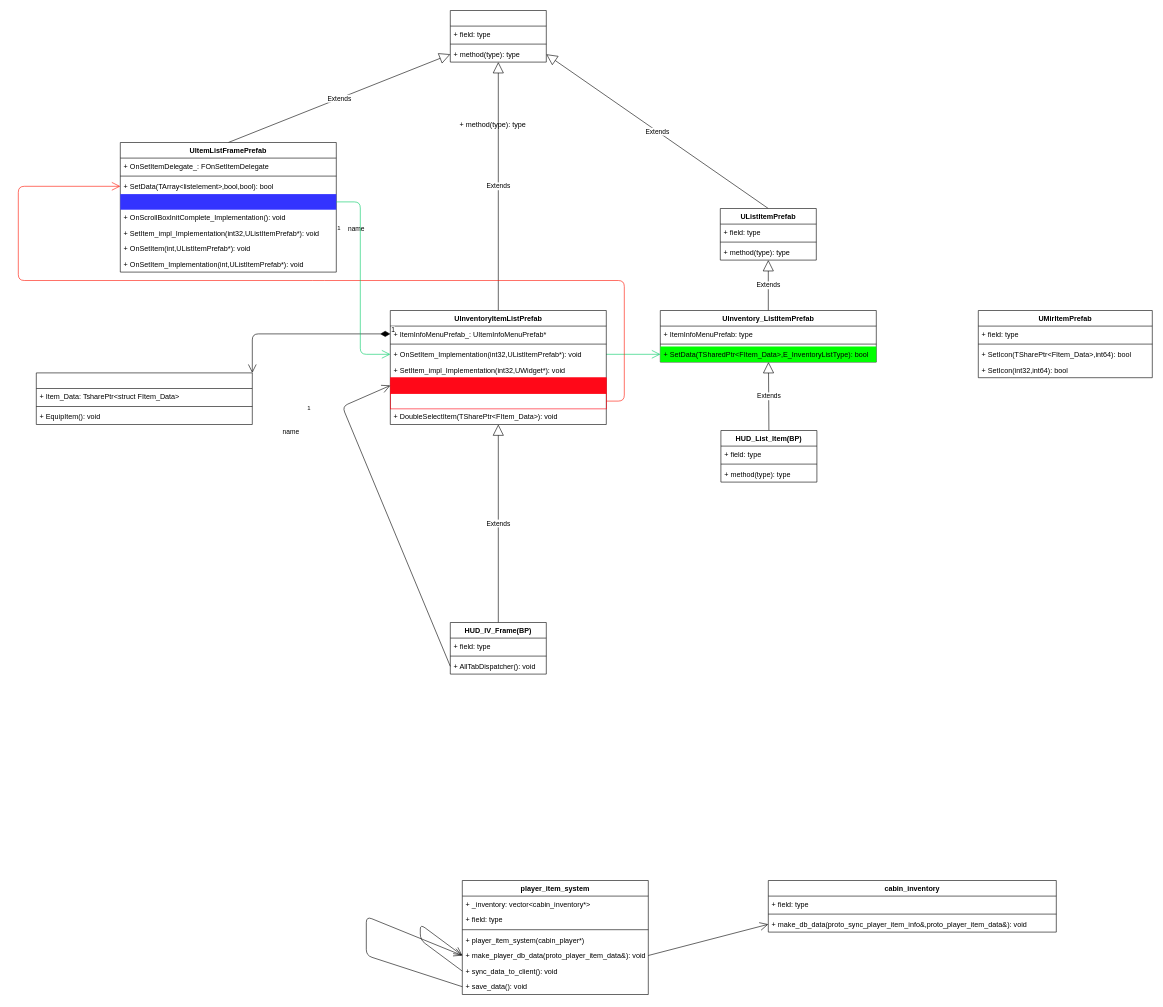
Some shapes in this 1163 by 1007 pixel diagram are drawn without their labels. Here are the shapes that lost their labels. From the top down, the box of each, then its label:
(450, 10, 546, 62): UMirPrefab
(120, 194, 336, 209): + OnSetItem(int32,UListItemPrefab*): void
(36, 372, 252, 424): UItemInfoMenuPrefab
(390, 377, 606, 393): + SetTapCategory(E_InventoryTapType): void
(390, 393, 606, 409): + RefreshList(bool): void
